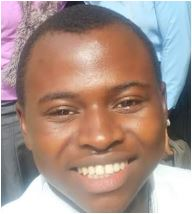without_facemask: (38, 132, 180, 198)
